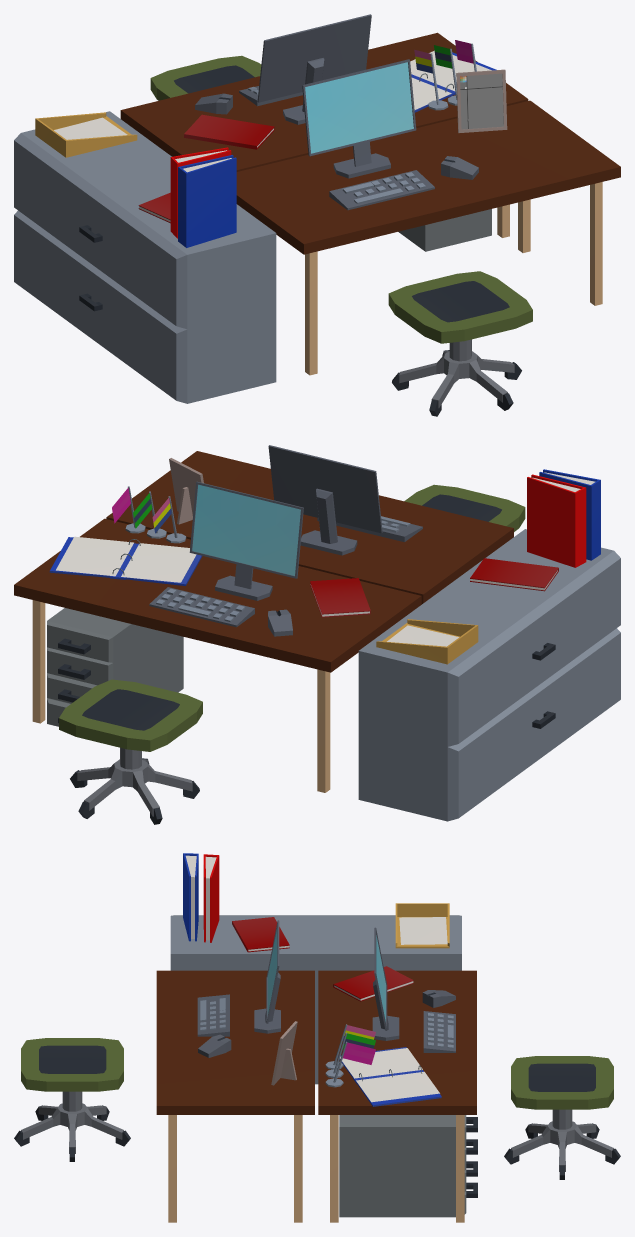
The model's file is g_o_Hiringdesk2Medical.fbx.
3 views of the same model, one above another, from view 1: azimuth 30°, elevation 25°; view 2: azimuth 150°, elevation 25°; view 3: azimuth 270°, elevation 25° (orthographic). The views are drawn at different scales.
Parts seen in each view (by area): view 1: g_o_HiringDeskFireFighters; view 2: g_o_HiringDeskFireFighters; view 3: g_o_HiringDeskFireFighters.
Boxes of the visible parts, x1=… form: g_o_HiringDeskFireFighters: x1=14, y1=14, x2=620, y2=416; g_o_HiringDeskFireFighters: x1=14, y1=445, x2=620, y2=824; g_o_HiringDeskFireFighters: x1=14, y1=853, x2=620, y2=1222.
Bounding box in the file's own units: 2.51 × 1.24 × 3.38.
